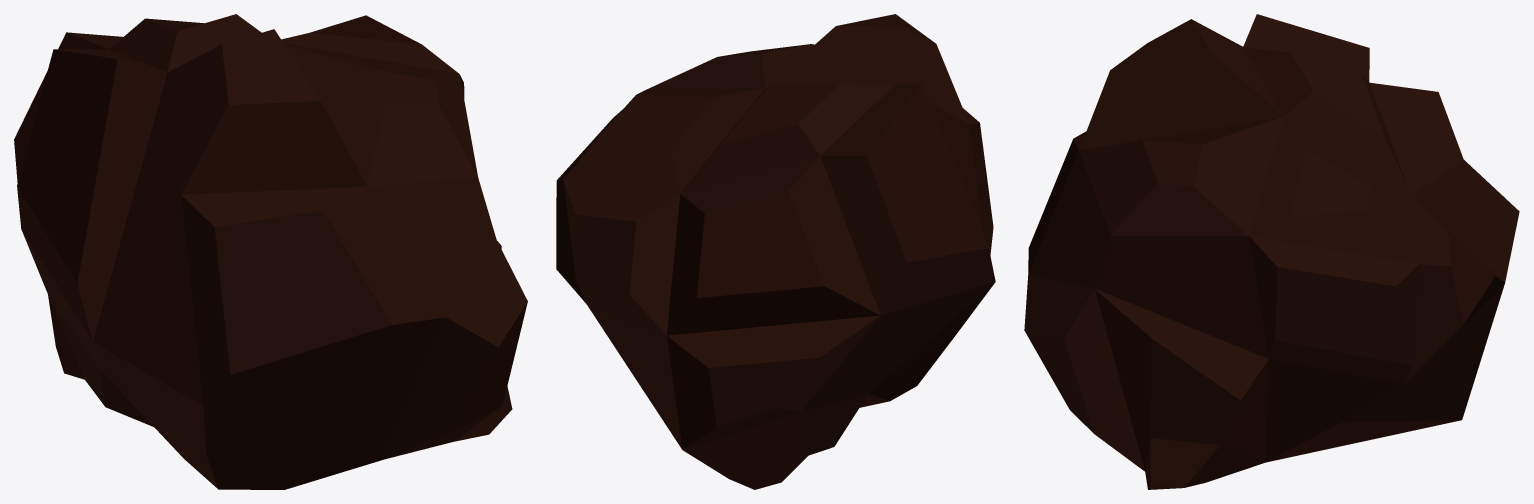
Rendered from coffeeProjectile.fbx.
3 views of the same model, side by side, from view 1: azimuth 30°, elevation 25°; view 2: azimuth 150°, elevation 25°; view 3: azimuth 270°, elevation 25° (orthographic). The views are drawn at different scales.
Visible parts, largest first — view 1: CoffeeProjectile; view 2: CoffeeProjectile; view 3: CoffeeProjectile.
Boxes of the visible parts, <box> form: CoffeeProjectile: <box>14,14,527,489</box>; CoffeeProjectile: <box>556,14,995,489</box>; CoffeeProjectile: <box>1024,14,1519,489</box>.
Size of the model in its own units: 167 by 177 by 200.
